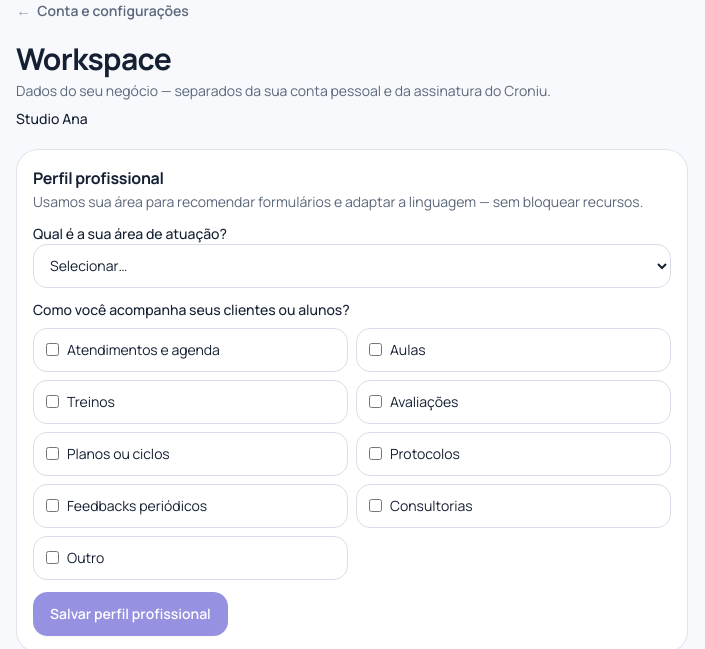
Test: Workspace settings — negócio separado de conta e assinatura › saves the profession section independently of the other sections
The image size is (705, 649).
Expected: the text "Studio Ana" is shown, [16,109,88,128]
Select "Professor de esportes" in the dropdown labelled "Qual é a sua área de atuação?" at (352,266), box [33,244,671,288]
(page scrolled)
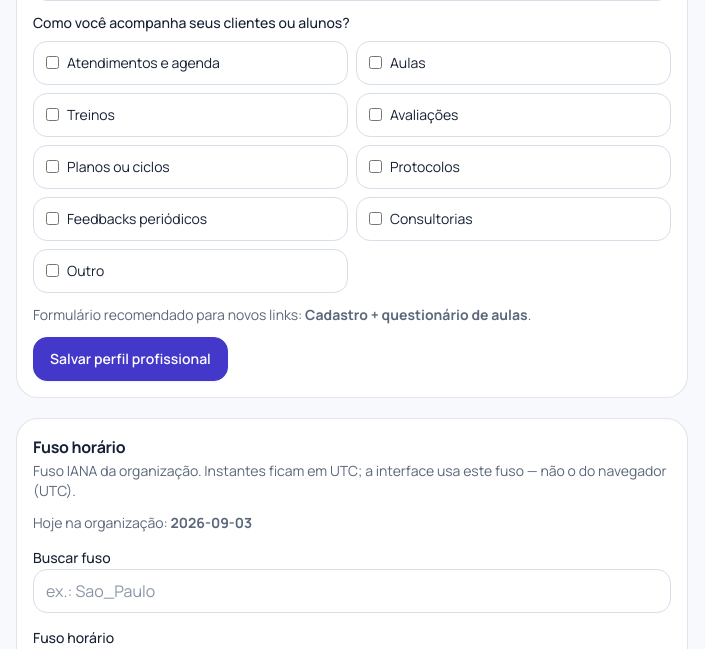
Click the button "Salvar perfil profissional".
click(130, 359)  # box [33,337,228,381]
(page scrolled)
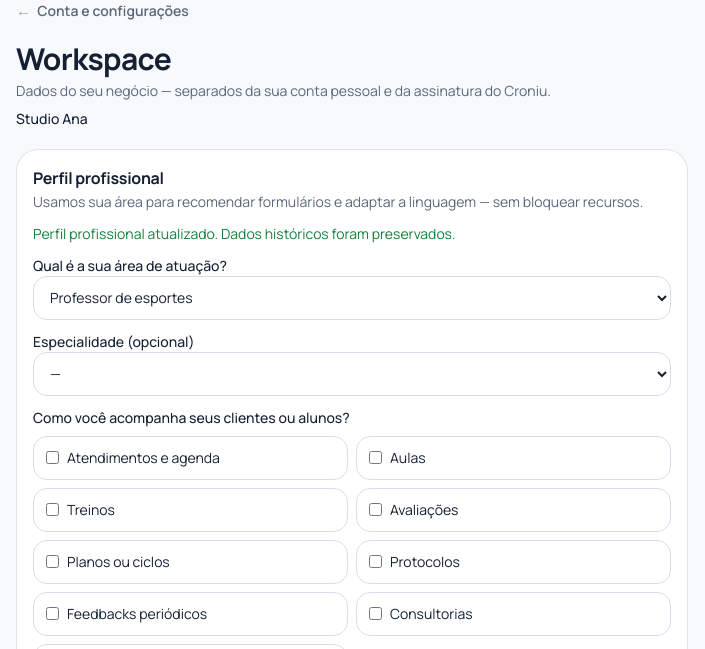
Expected: the text "Perfil profissional atualizado. Dados históricos foram preservados." is shown, [33,224,456,243]
